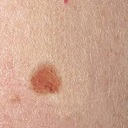Melanoma: (27, 63, 66, 96)
